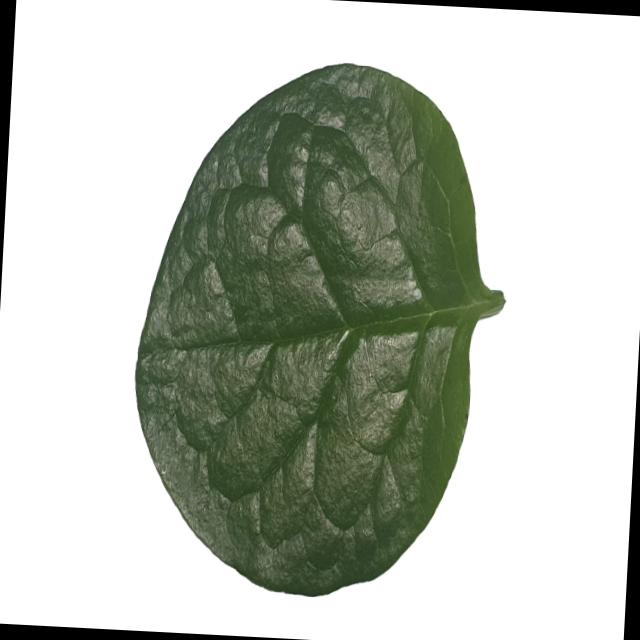Medicinal-Basale: (125, 54, 519, 606)
